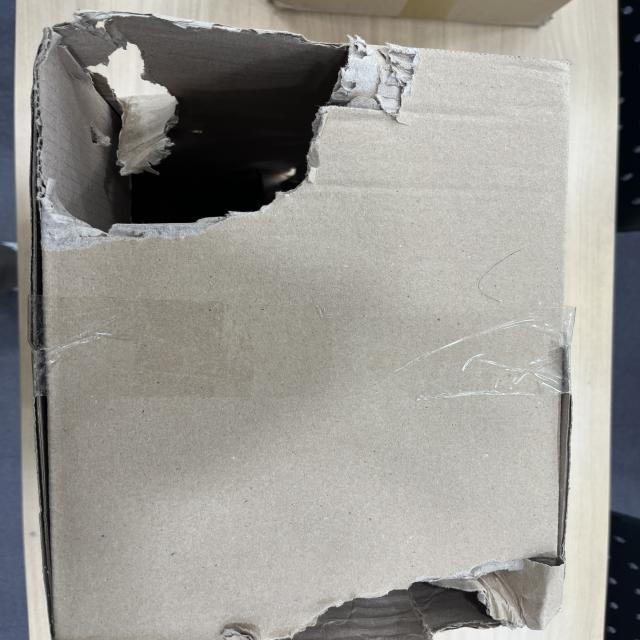hole: (36, 16, 416, 246), (234, 553, 564, 640)
